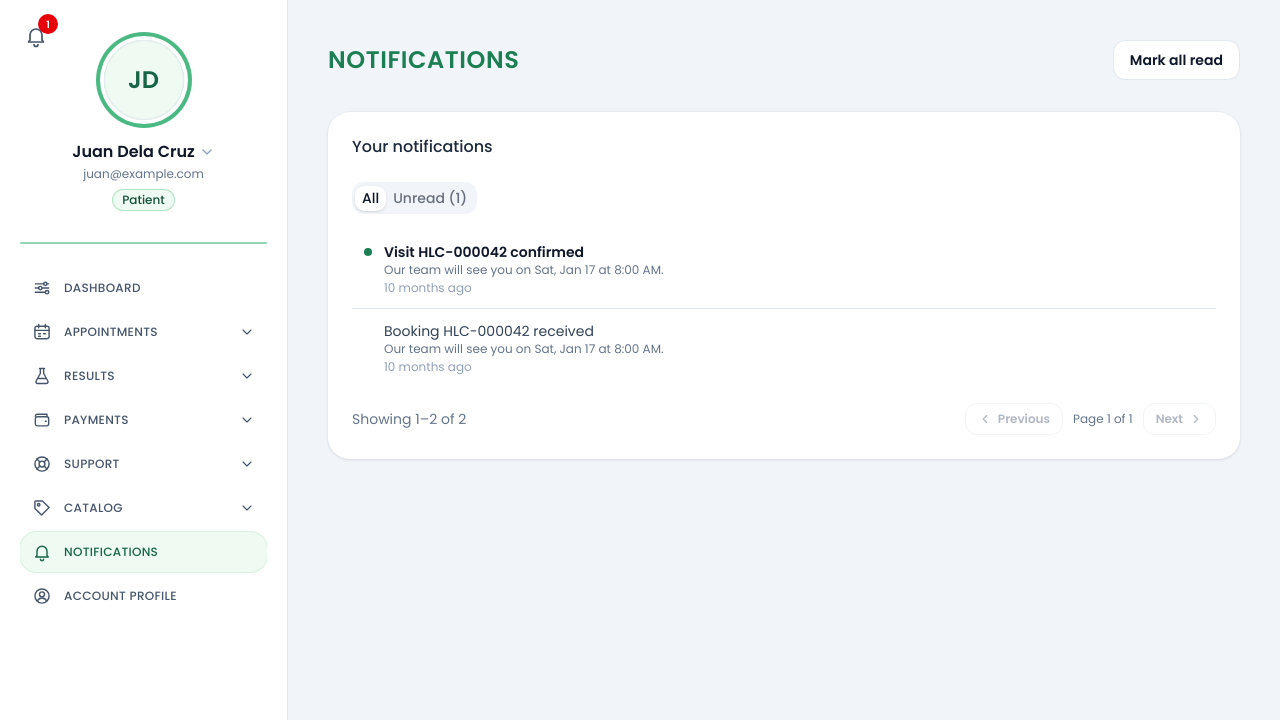
Test: notifications › lists everything on the Notifications page, with an Unread tab and Mark all read
Click the tab "Unread (1)" at (430, 198), box [386,186,474,210]
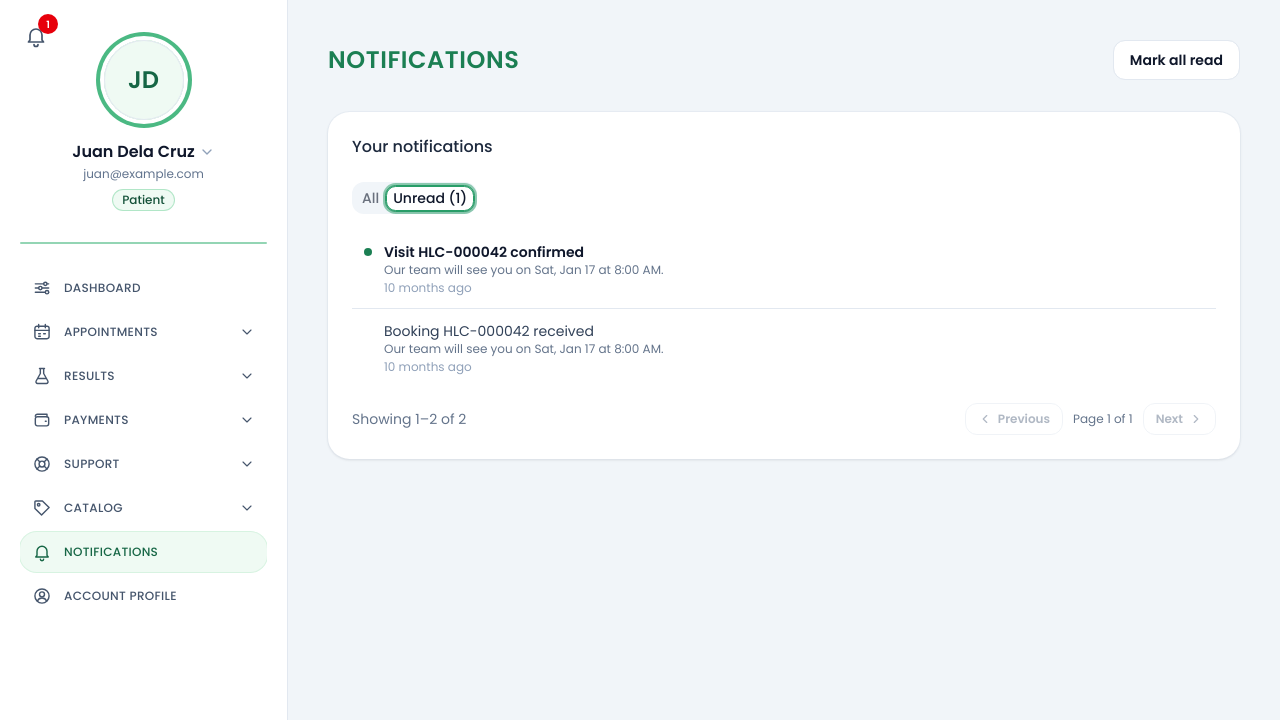
Click the button "Mark all read" at (1176, 60), box [1113,40,1240,80]
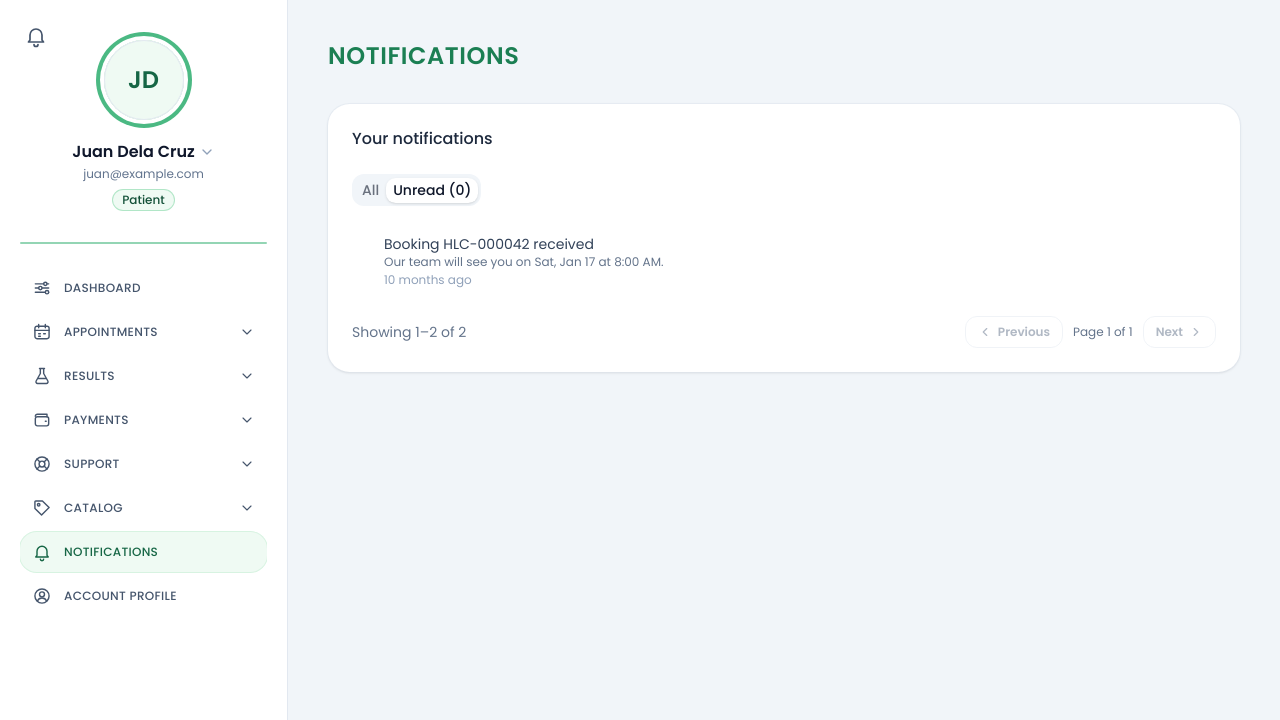
Result: the tab "Unread (0)" is shown at [386,178,478,202]
Result: the button "Mark all read" is gone
